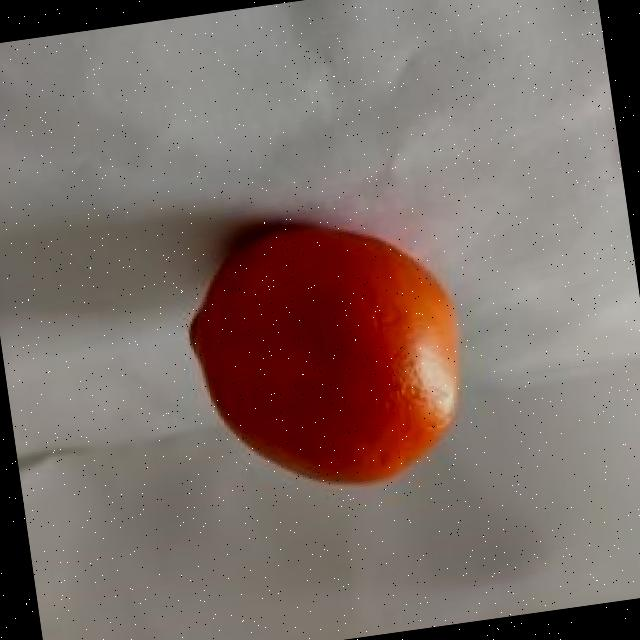Ripe: (173, 196, 486, 509)
